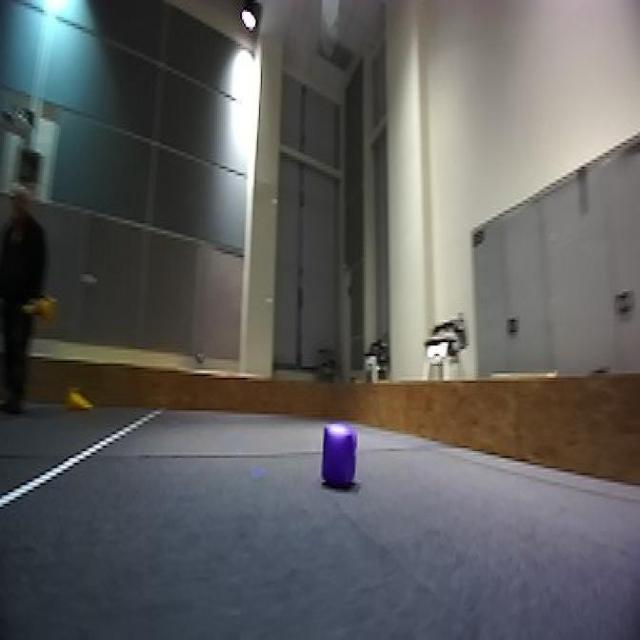frc_cone: (66, 383, 92, 414), (31, 292, 56, 322)
frc_cube: (316, 420, 359, 492)
